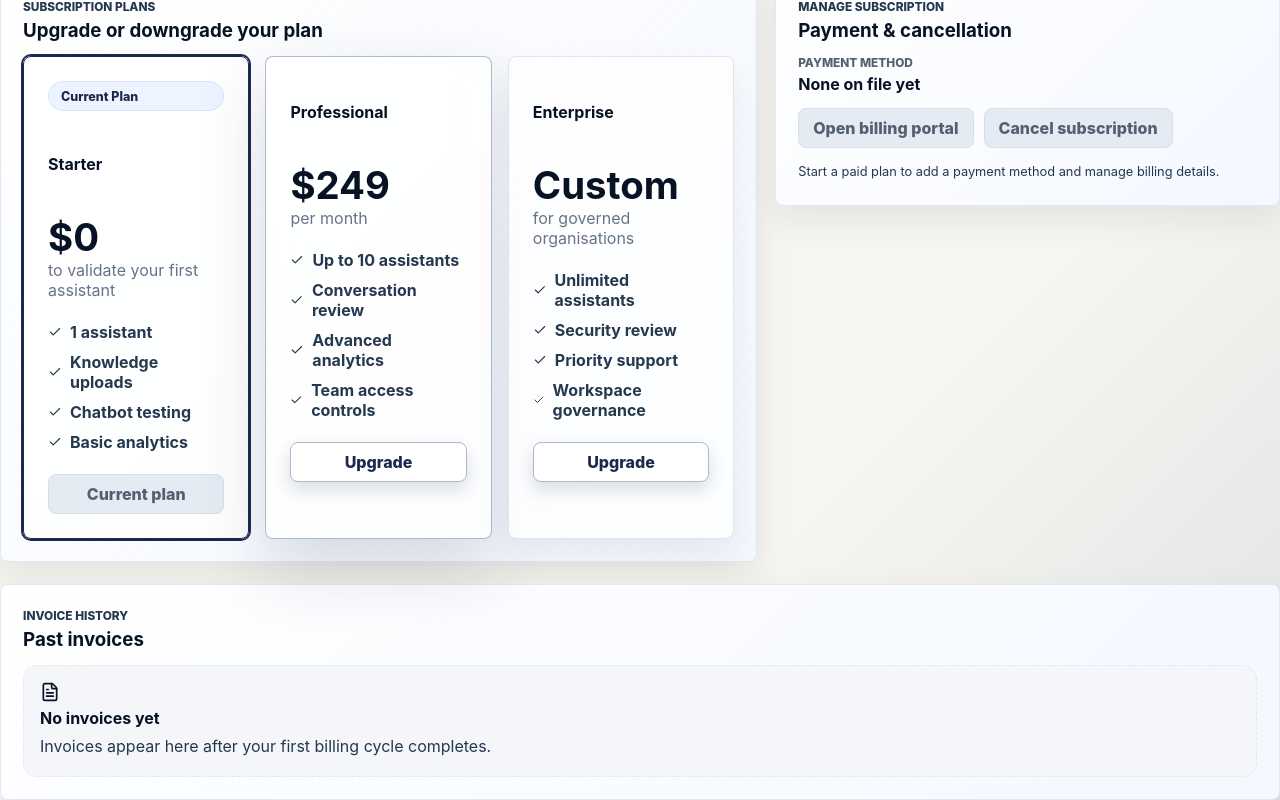
Test: BillingDashboardClient › starts checkout for the selected plan and shows a redirecting state
(page scrolled)
Click the button "Upgrade" below "Team access controls".
click(379, 462)  # box [290,442,467,482]
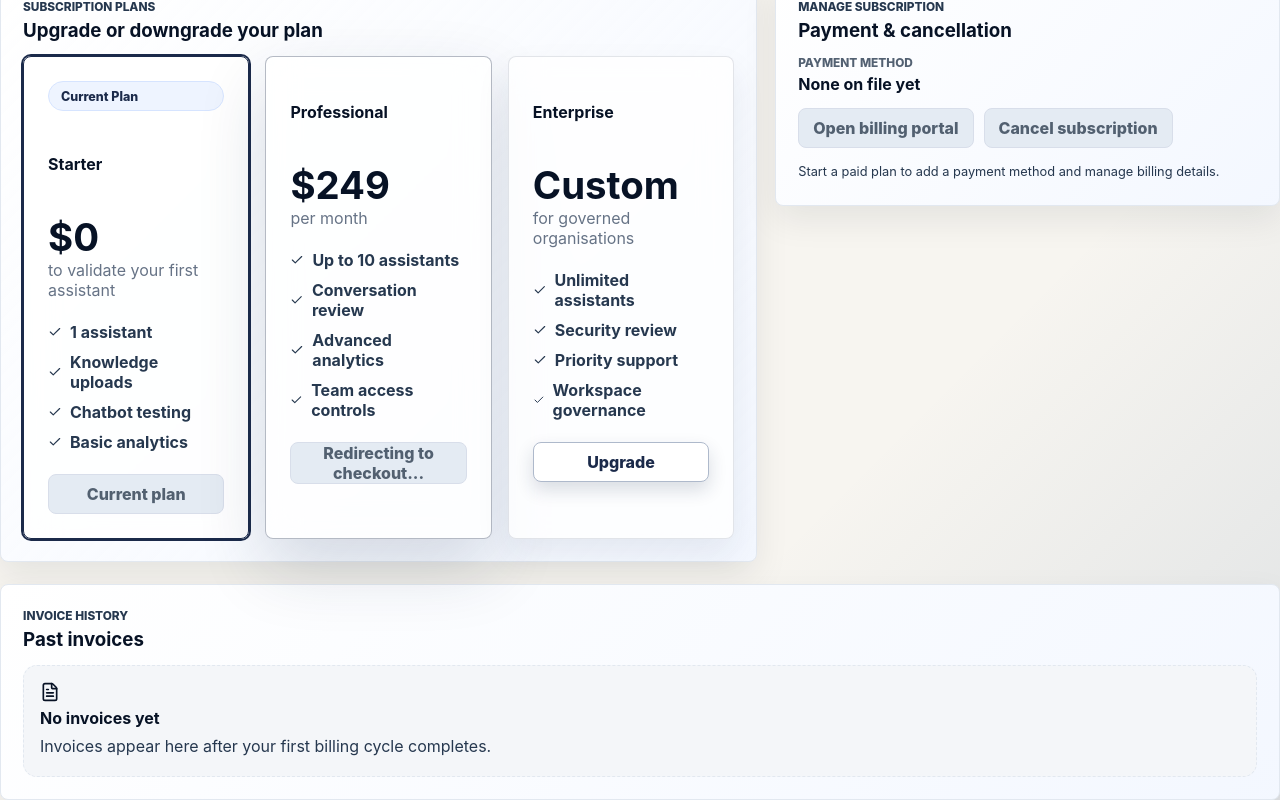
Check: the button "Redirecting to checkout..." is shown, box [290,442,467,484]
